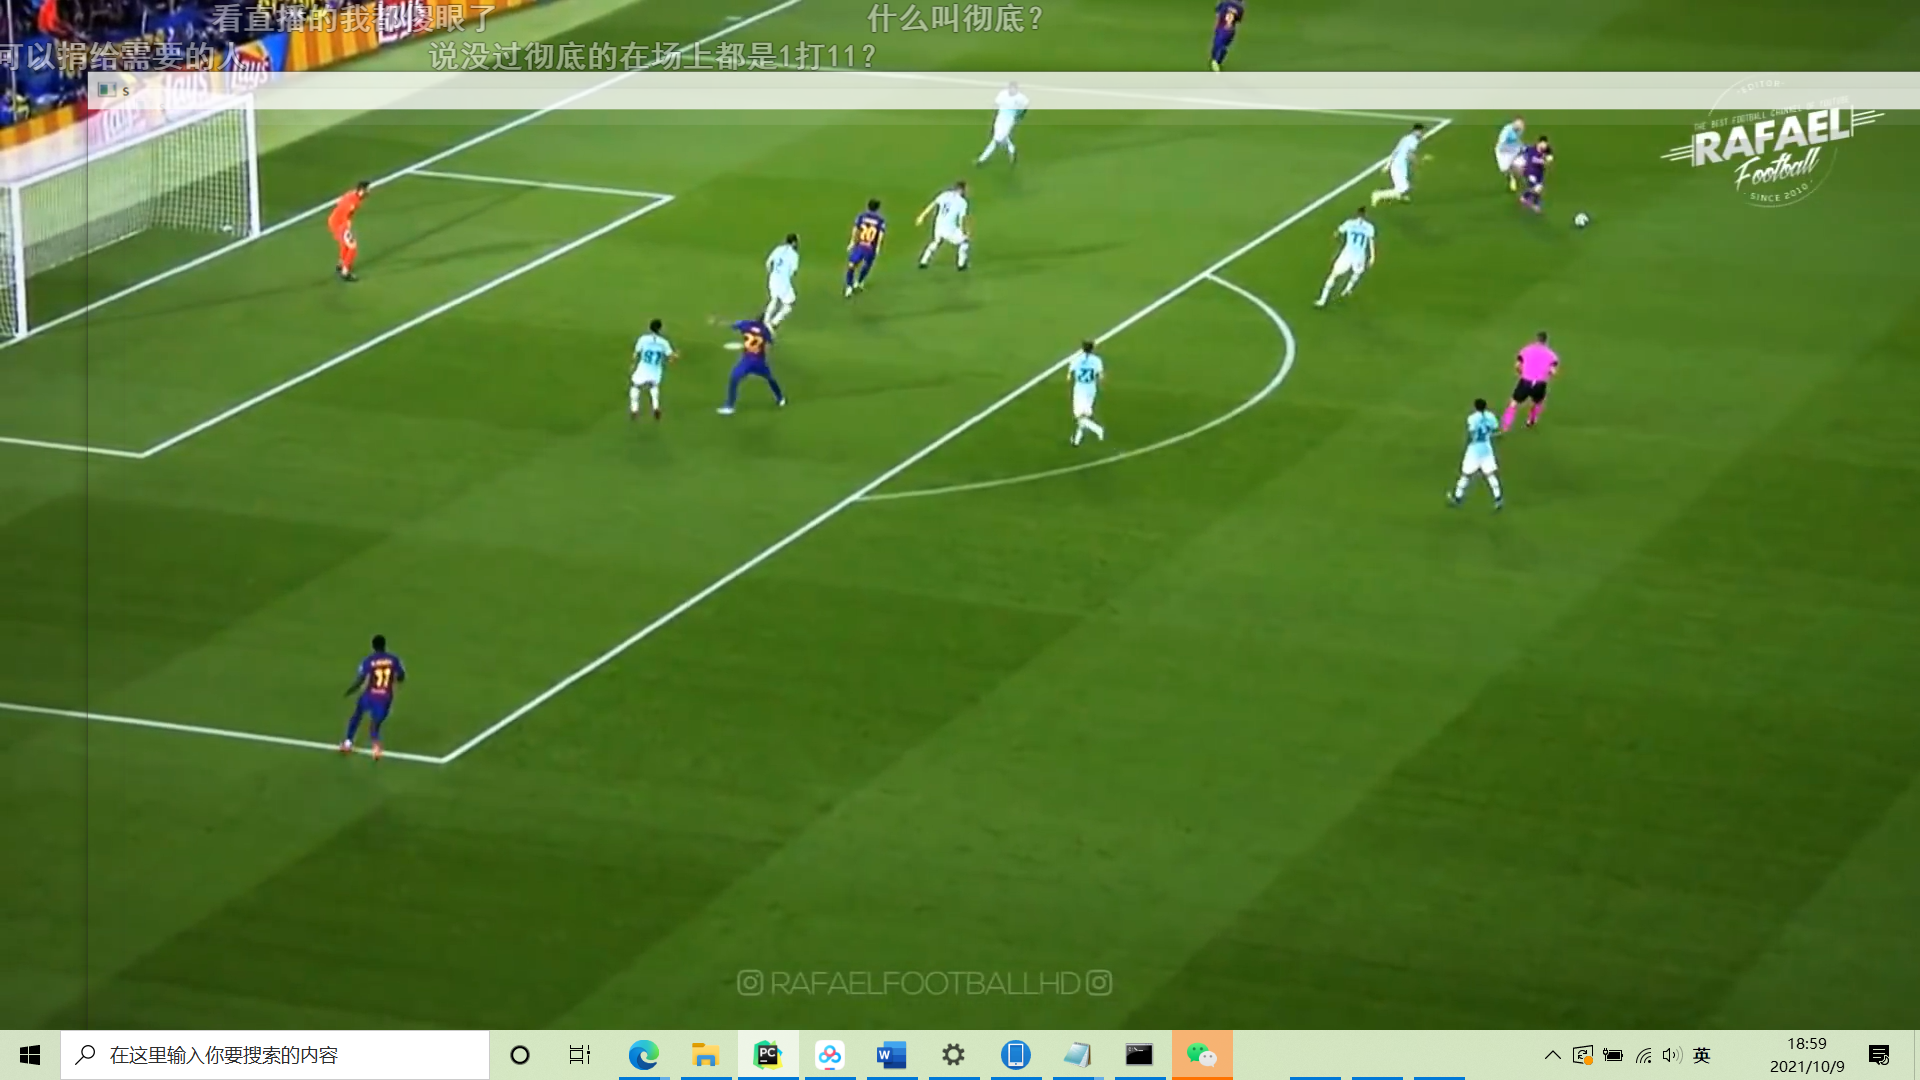ft: (1571, 212, 1592, 228)
